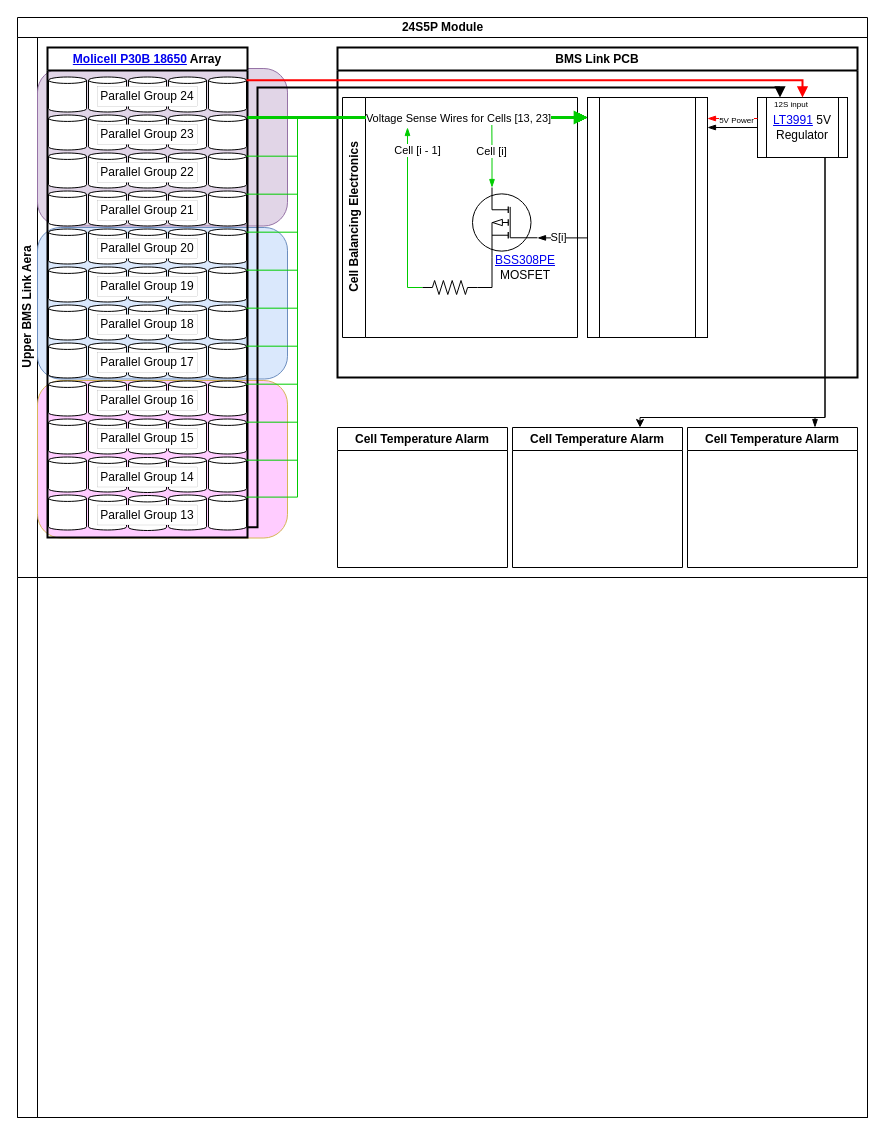
The diagram is 885 pixels wide and 1135 high, and some of its shapes have lost their labels. The shapes that lost their labels are listed below. From the top down, each one's centre as x and y in pixels, then its label:
(647,217): LTC6811 Battery Management IC
(450,287): 10 Ω
(442,847): Lower BMS Link Area [S1 to S12]
